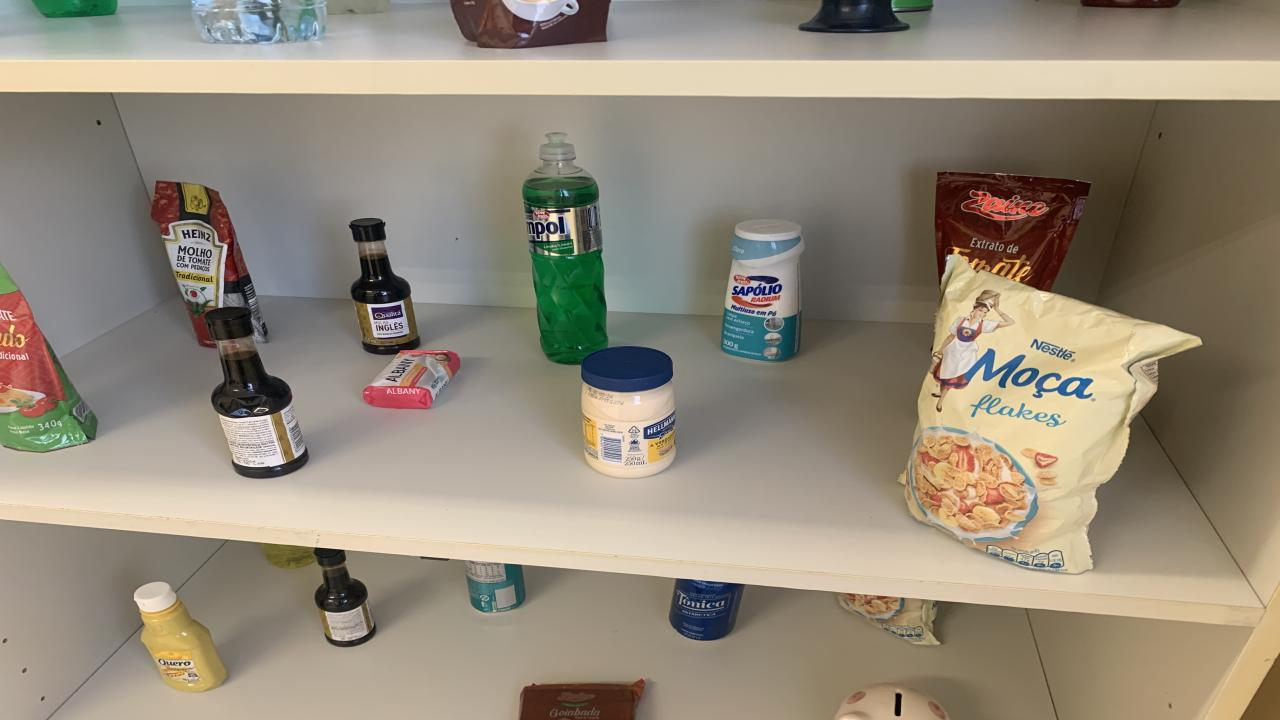Cleaner-Cleanup_Items: (722, 219, 805, 360)
Coffee-Pantry_Items: (450, 0, 610, 49)
Detergent-Cleanup_Items: (522, 133, 608, 364), (32, 0, 118, 17)
English_Sauce-Pantry_Items: (205, 308, 308, 478), (350, 218, 420, 354), (315, 548, 375, 647)
Flakes-Snacks: (900, 255, 1200, 574), (838, 592, 940, 645)
Guava-Snacks: (520, 679, 645, 720)
Mayonnaise-Pantry_Items: (580, 347, 675, 478)
Mustard-Pantry_Items: (132, 581, 228, 692)
Pig_Safe-Miscellaneous: (835, 682, 950, 720)
Soap-Cleanup_Items: (362, 351, 460, 409)
Tea-Drinks: (465, 561, 525, 613)
Tomato_Sauce-Pantry_Items: (150, 182, 268, 347), (935, 172, 1090, 291), (0, 266, 98, 452)
Tonic-Drinks: (670, 579, 745, 641)
Water_Bottle-Drinks: (192, 0, 328, 43)
